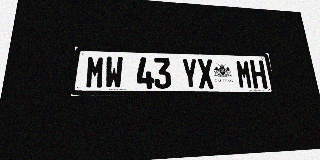3: (154, 58, 171, 89)
4: (137, 57, 154, 89)
H: (250, 60, 268, 89)
M: (85, 56, 105, 89), (235, 60, 253, 89)
W: (104, 56, 123, 89)
X: (197, 59, 215, 89)
Y: (181, 58, 199, 89)
